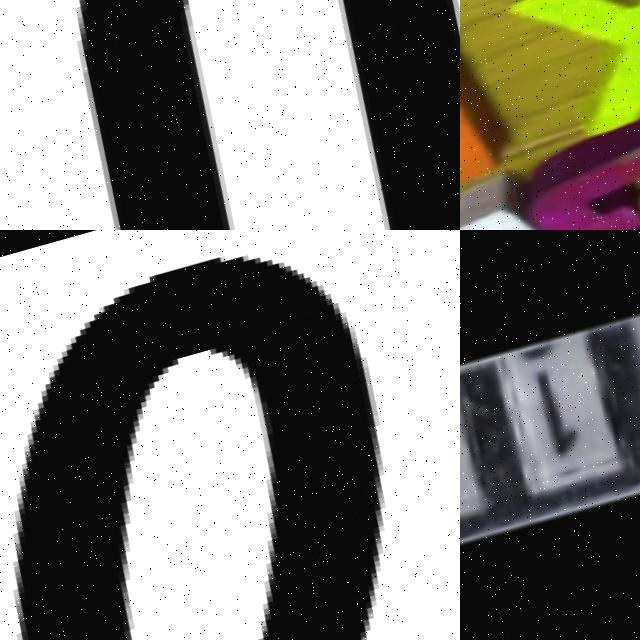1: (519, 357, 612, 470)
2: (460, 394, 483, 521)
E: (460, 5, 528, 218)
G: (530, 106, 640, 230)
H: (460, 161, 613, 230)
O: (16, 251, 392, 640)
U: (11, 0, 460, 230)
X: (483, 0, 640, 159)
